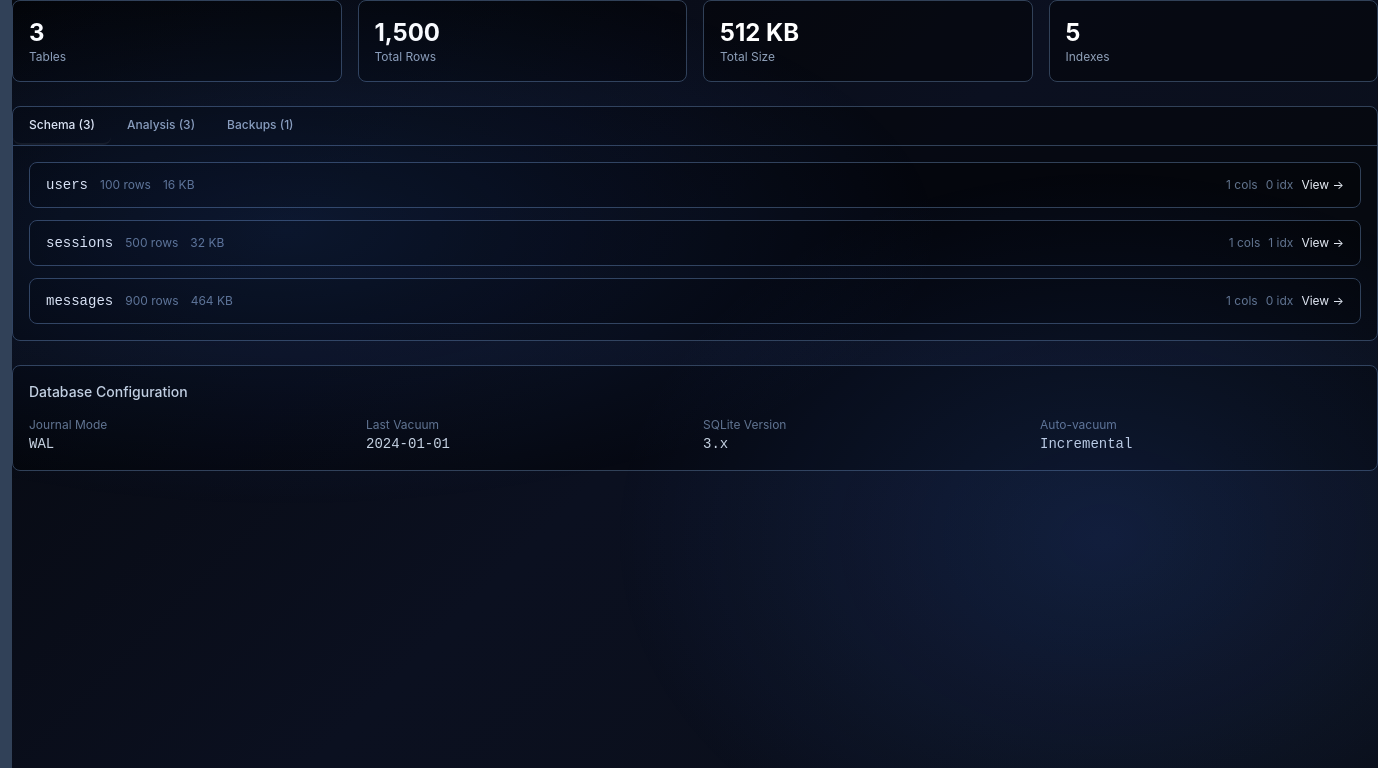
it: DatabasePanel › renders analysis tab with suggestions
The width and height of the screenshot is (1378, 768).
What coordinates should you click on to do the following:
click the button "Analysis (3)"
I would click on:
 (161, 126)
Its box is [111,107,211,145].
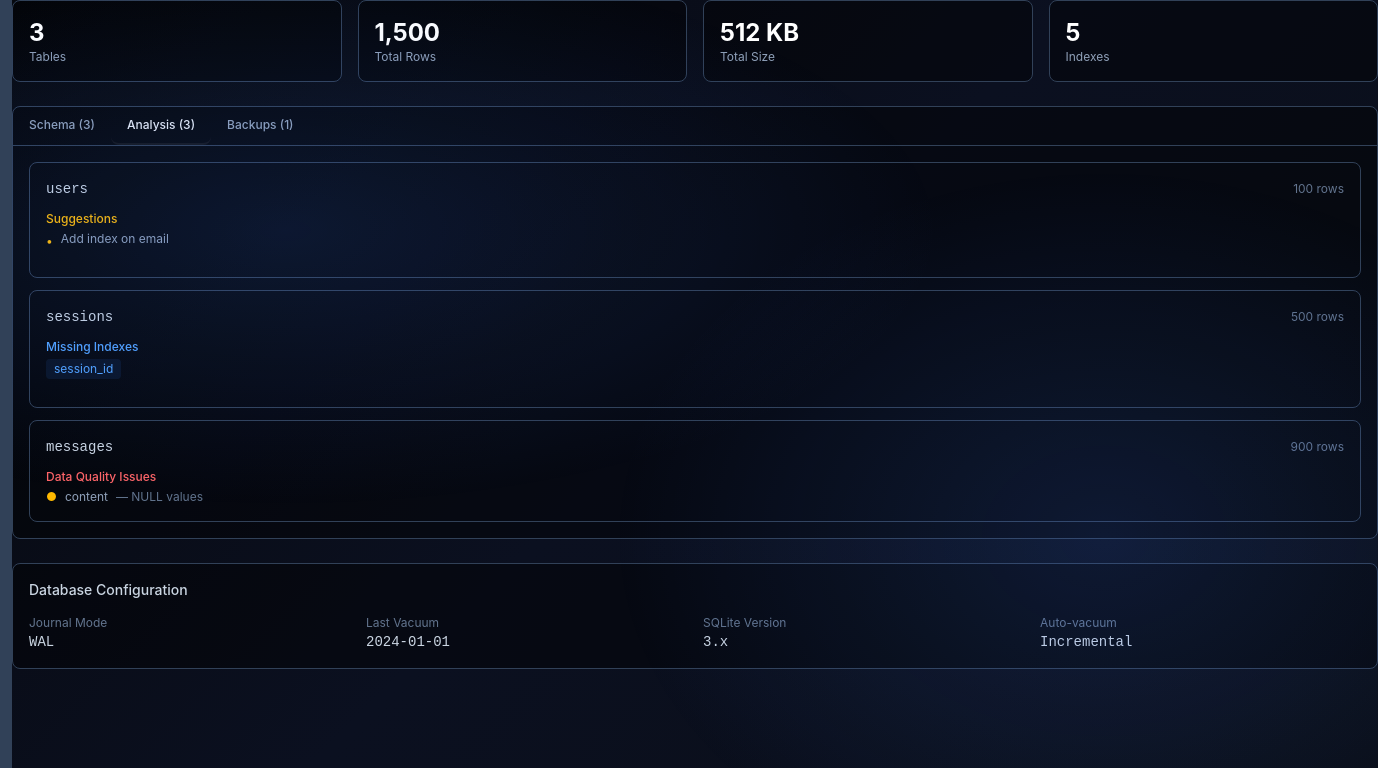
Now the heading "Suggestions" is shown, box [46,211,117,226]
Now the list item "Add index on email" is shown, box [61,231,169,246]
